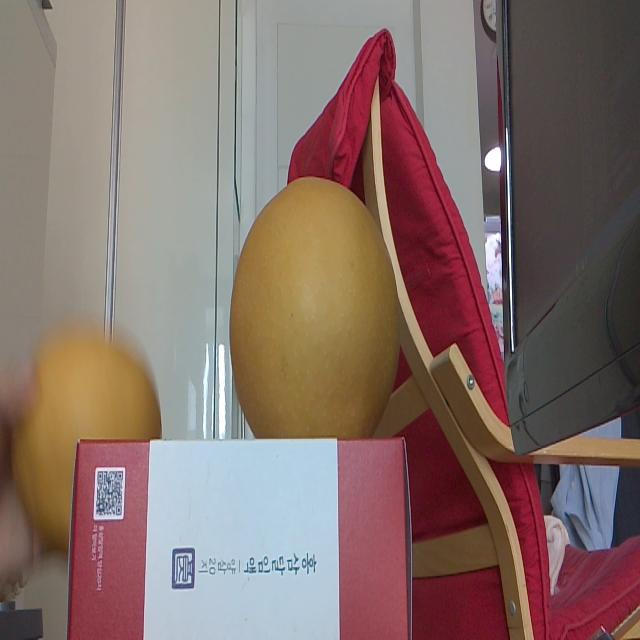pear: (229, 175, 397, 441), (12, 329, 168, 539)
